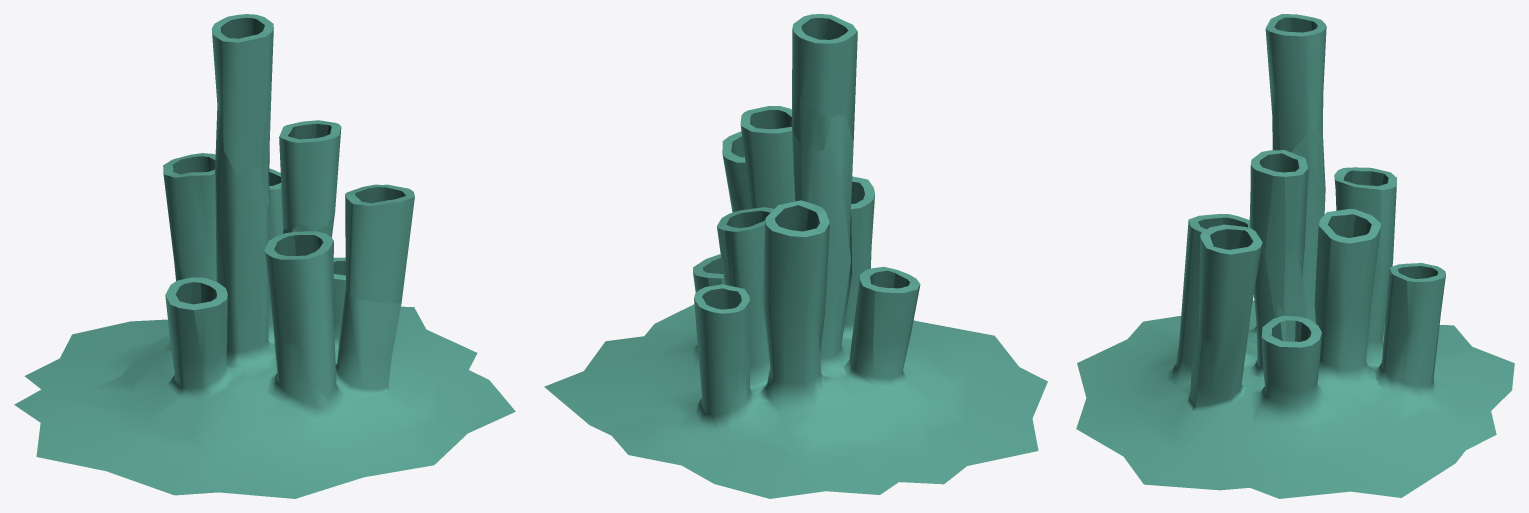
Rendered from coral_tube_B_dense.fbx.
3 renders of one model, left to right at view 1: azimuth 30°, elevation 25°; view 2: azimuth 150°, elevation 25°; view 3: azimuth 270°, elevation 25°, orthographic. The views are drawn at different scales.
Parts seen in each view (by area): view 1: coral_tube_B_dense; view 2: coral_tube_B_dense; view 3: coral_tube_B_dense.
Boxes of the visible parts, <box> form: coral_tube_B_dense: <box>14,14,515,498</box>; coral_tube_B_dense: <box>544,14,1047,498</box>; coral_tube_B_dense: <box>1076,14,1514,498</box>.
Bounding box in the file's own units: 105 × 86.27 × 93.15.
